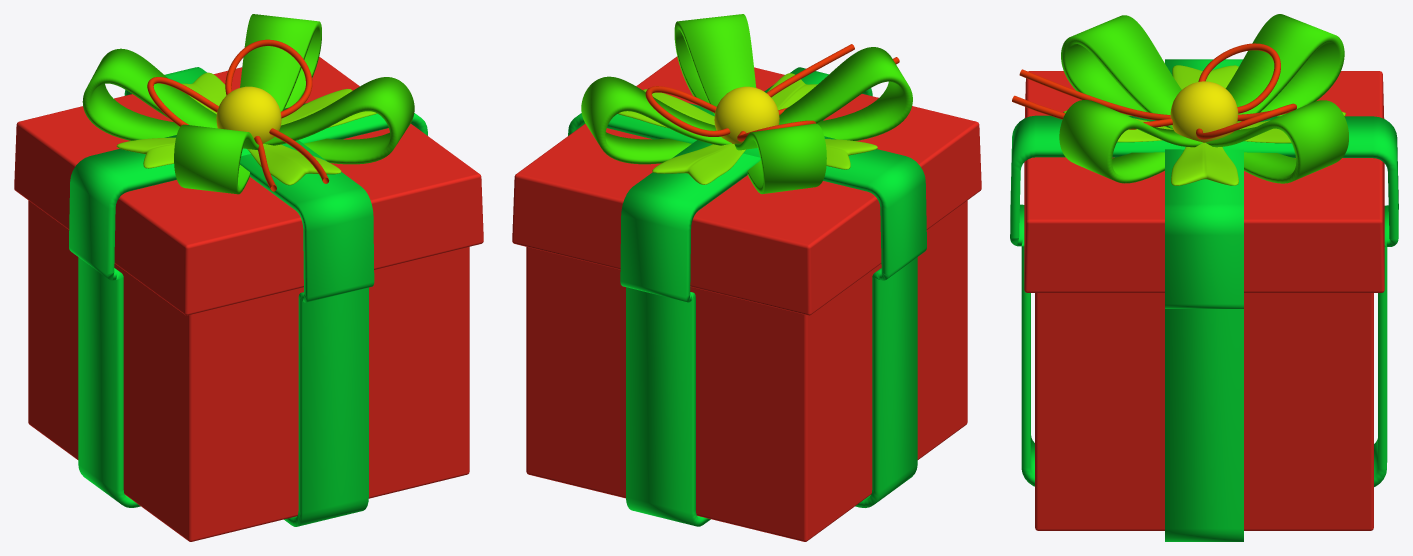
File: giftbox.fbx
3 views of the same model, side by side, from view 1: azimuth 30°, elevation 25°; view 2: azimuth 150°, elevation 25°; view 3: azimuth 270°, elevation 25° (orthographic). The views are drawn at different scales.
Parts seen in each view (by area): view 1: Cube, Cube.001, NurbsPath.001, NurbsPath.003, NurbsPath, NurbsPath.002, NurbsPath.004, Sphere, Plane.003, Plane.002, Plane, Plane.001; view 2: Cube, Cube.001, NurbsPath.002, NurbsPath.003, NurbsPath, NurbsPath.001, Sphere, NurbsPath.004, Plane.001, Plane.002, Plane, Plane.003; view 3: Cube, Cube.001, NurbsPath.002, NurbsPath.001, NurbsPath.003, NurbsPath, NurbsPath.004, Sphere, Plane, Plane.002, Plane.001, Plane.003.
Part boxes in pixels (x1=…): Cube: x1=14, y1=57, x2=483, y2=541; Cube.001: x1=69, y1=67, x2=427, y2=526; NurbsPath.001: x1=82, y1=48, x2=217, y2=140; NurbsPath.003: x1=264, y1=77, x2=414, y2=164; NurbsPath: x1=240, y1=14, x2=321, y2=111; NurbsPath.002: x1=174, y1=124, x2=258, y2=194; NurbsPath.004: x1=147, y1=39, x2=329, y2=191; Sphere: x1=216, y1=86, x2=281, y2=143; Plane.003: x1=247, y1=143, x2=341, y2=185; Plane.002: x1=116, y1=137, x2=175, y2=168; Plane: x1=281, y1=88, x2=376, y2=127; Plane.001: x1=181, y1=72, x2=226, y2=114; Cube: x1=512, y1=56, x2=981, y2=541; Cube.001: x1=568, y1=67, x2=926, y2=526; NurbsPath.002: x1=779, y1=47, x2=912, y2=140; NurbsPath.003: x1=674, y1=14, x2=756, y2=114; NurbsPath: x1=581, y1=76, x2=731, y2=164; NurbsPath.001: x1=734, y1=123, x2=826, y2=194; Sphere: x1=714, y1=86, x2=779, y2=144; NurbsPath.004: x1=645, y1=44, x2=899, y2=141; Plane.001: x1=652, y1=143, x2=745, y2=184; Plane.002: x1=825, y1=139, x2=877, y2=169; Plane: x1=618, y1=89, x2=714, y2=128; Plane.003: x1=767, y1=73, x2=817, y2=110; Cube: x1=1024, y1=71, x2=1384, y2=530; Cube.001: x1=1010, y1=59, x2=1398, y2=541; NurbsPath.002: x1=1061, y1=15, x2=1181, y2=128; NurbsPath.001: x1=1225, y1=14, x2=1344, y2=122; NurbsPath.003: x1=1059, y1=100, x2=1202, y2=183; NurbsPath: x1=1205, y1=100, x2=1348, y2=183; NurbsPath.004: x1=1012, y1=43, x2=1296, y2=139; Sphere: x1=1170, y1=81, x2=1238, y2=142; Plane: x1=1171, y1=142, x2=1238, y2=185; Plane.002: x1=1172, y1=65, x2=1238, y2=89; Plane.001: x1=1239, y1=111, x2=1345, y2=143; Plane.003: x1=1063, y1=110, x2=1173, y2=142.
Size of the model in its own units: 229 by 262 by 229.
